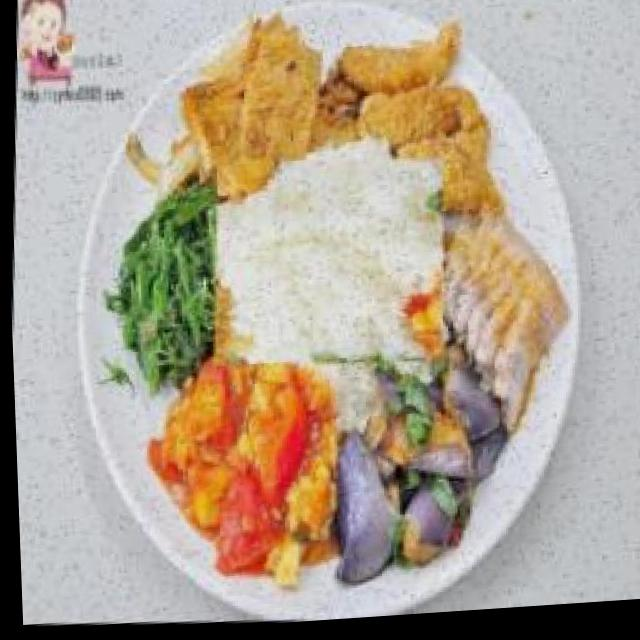rice: (210, 147, 441, 384)
